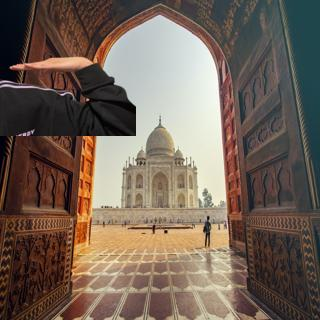Wait: (4, 49, 95, 76)
